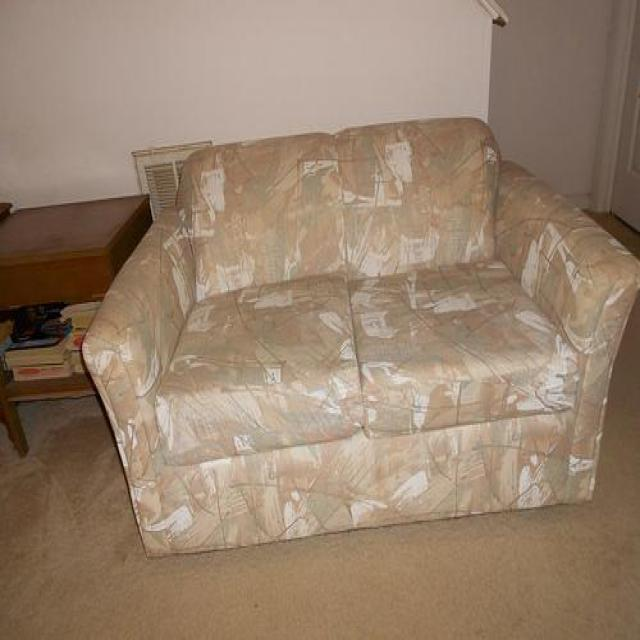sofa: (79, 114, 640, 558)
